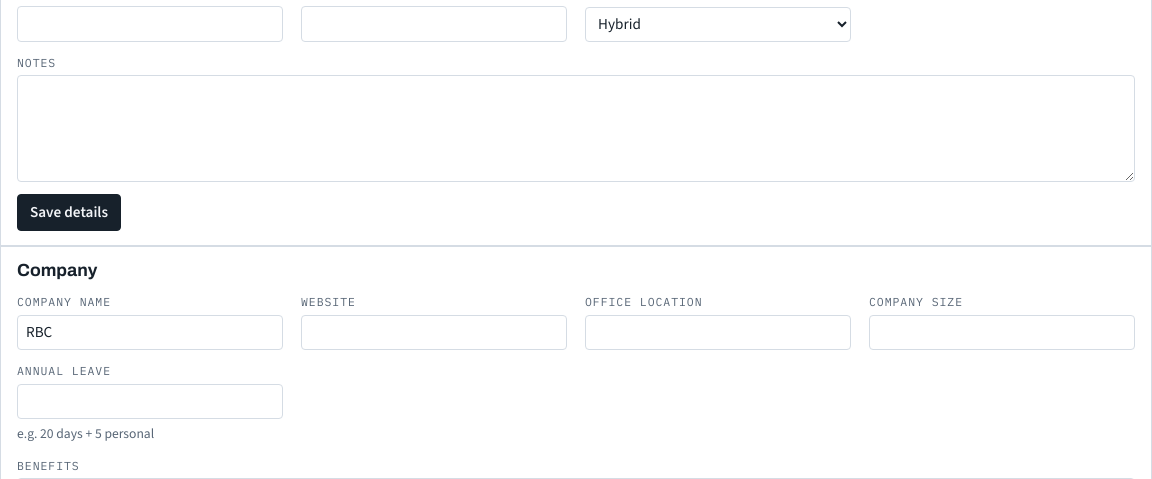
Test: Entry page › offers no Reload when a company rename clashes with another company
(page scrolled)
Replace the text in the field labelled "Company name" with "TD". click: (150, 332)
box: [17,315,283,350]
(page scrolled)
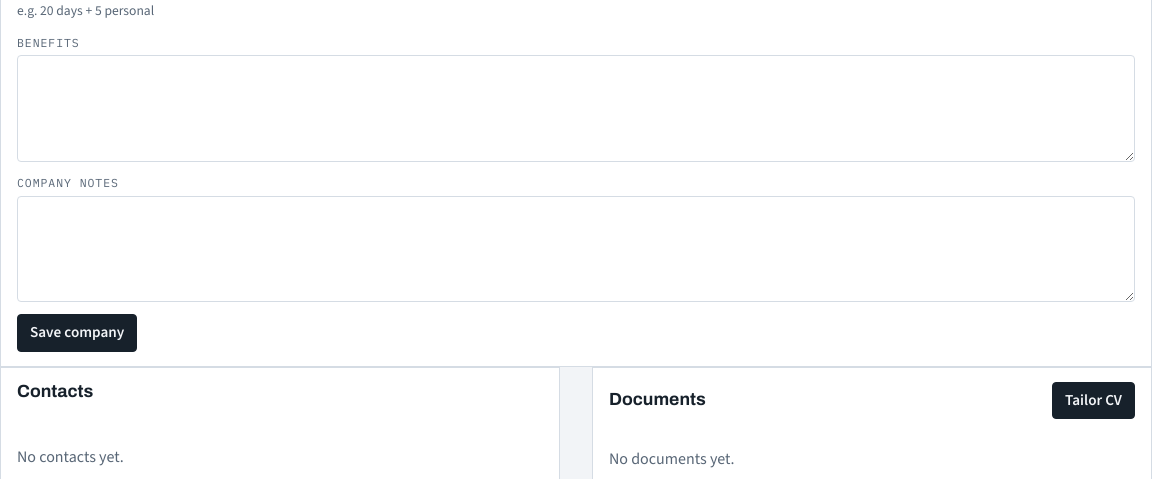
Click the button "Save company". click: (77, 333)
box: [17,314,137,352]
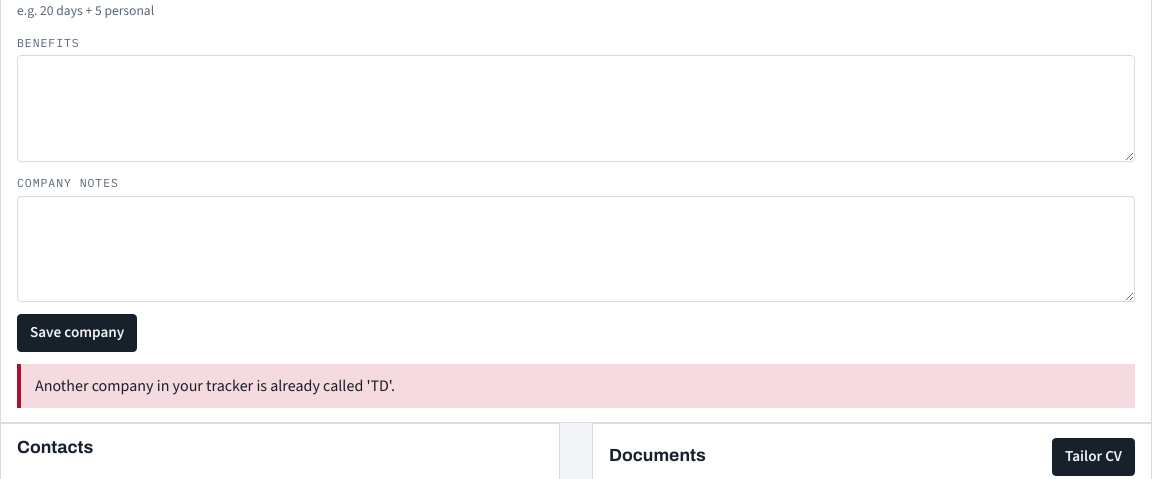
Expected: the text "Another company in your tracker is already called 'TD'." is shown, [17,364,1135,408]
